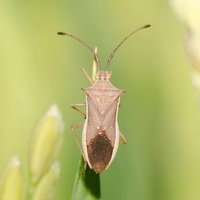insect: (57, 24, 150, 172)
